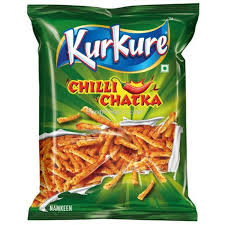kurkure: (60, 25, 198, 72)
plastic: (29, 6, 195, 219)
